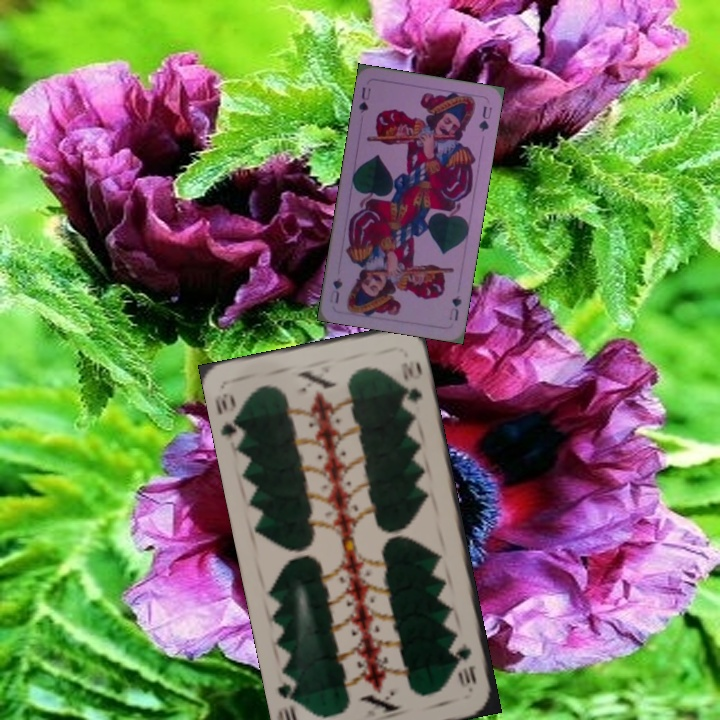G10: (211, 389, 247, 443), (453, 639, 479, 688)
GU: (354, 83, 373, 115), (445, 291, 464, 323)
